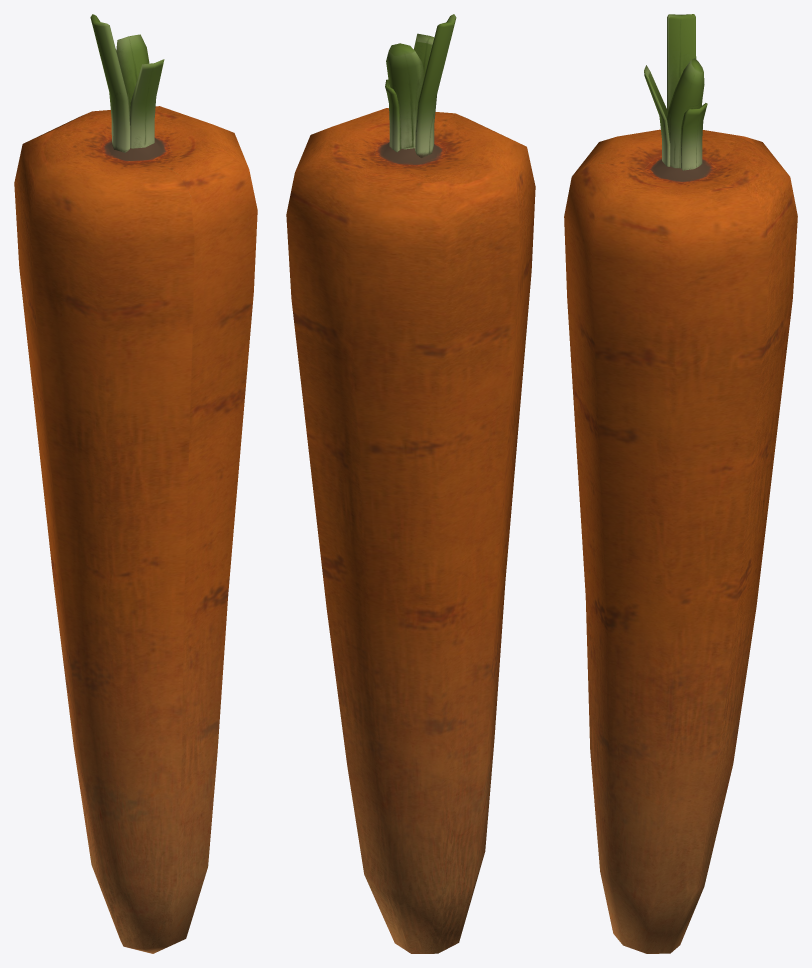
File: carrot.glb
3 renders of one model, left to right at view 1: azimuth 30°, elevation 25°; view 2: azimuth 150°, elevation 25°; view 3: azimuth 270°, elevation 25°, orthographic. The views are drawn at different scales.
Parts seen in each view (by area): view 1: Carrot_LP; view 2: Carrot_LP; view 3: Carrot_LP.
Boxes of the visible parts, left/top/right/bottom form: Carrot_LP: left=14, top=14, right=257, bottom=953; Carrot_LP: left=286, top=14, right=535, bottom=953; Carrot_LP: left=564, top=14, right=797, bottom=953.
Bounding box in the file's own units: 0.4735 × 2 × 0.4594.
1 material, 1 textured.
